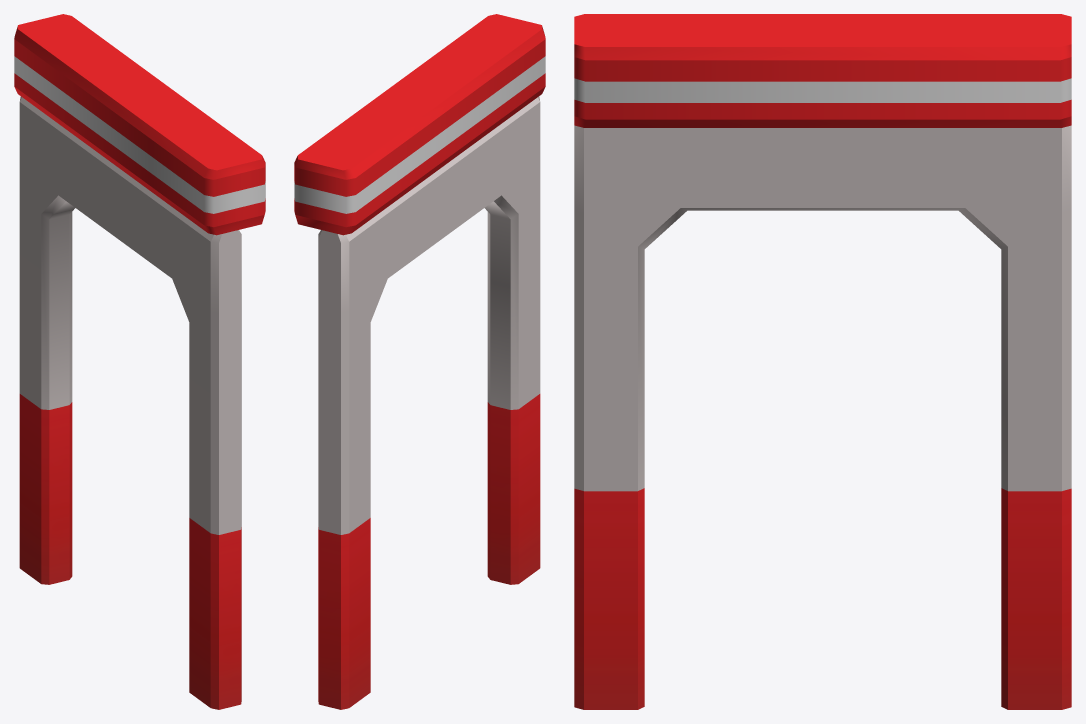
File: Wall_S_A_4.glb
3 renders of one model, left to right at view 1: azimuth 30°, elevation 25°; view 2: azimuth 150°, elevation 25°; view 3: azimuth 270°, elevation 25°, orthographic. The views are drawn at different scales.
Visible parts, largest first — view 1: Wall_S_A_4; view 2: Wall_S_A_4; view 3: Wall_S_A_4.
Boxes of the visible parts, <box> form: Wall_S_A_4: <box>14,14,265,709</box>; Wall_S_A_4: <box>294,14,545,709</box>; Wall_S_A_4: <box>574,14,1071,709</box>.
Bounding box in the file's own units: 0.358 × 3 × 2.
1 material, 1 textured.
